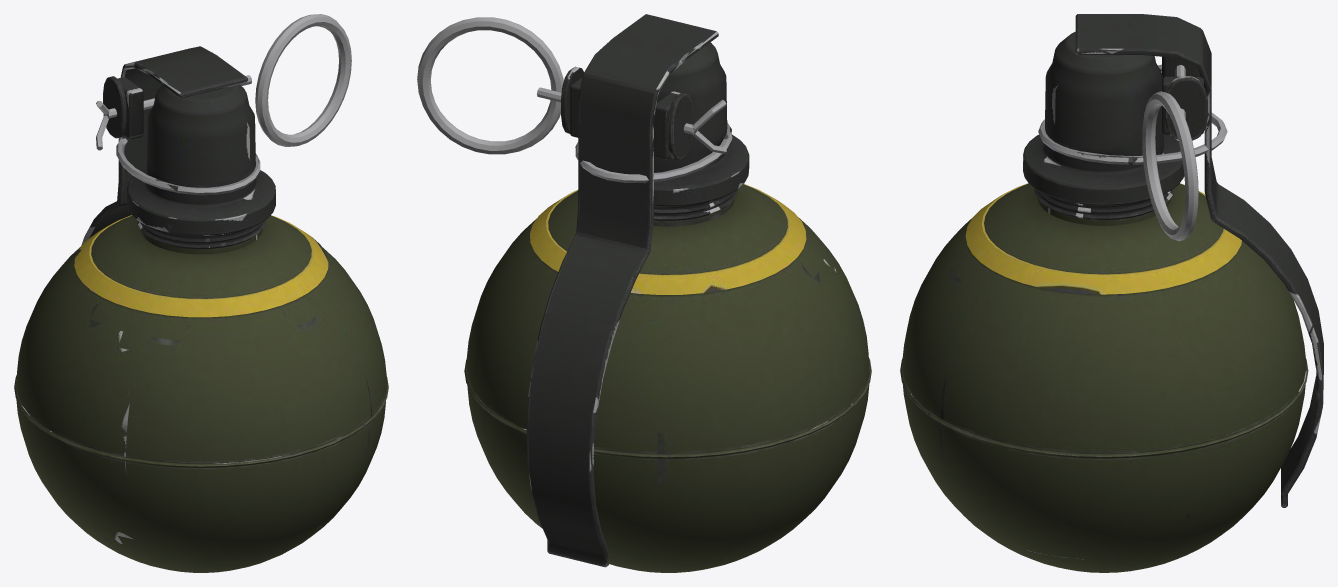
File: frag.glb
The picture shows the model from 3 angles, left to right: view 1: azimuth 30°, elevation 25°; view 2: azimuth 150°, elevation 25°; view 3: azimuth 270°, elevation 25°; orthographic projection. The views are drawn at different scales.
Parts seen in each view (by area): view 1: body, spoon, ring; view 2: body, spoon, ring; view 3: body, spoon, ring.
Boxes of the visible parts, box(x1,y1,x2,y2) form: body: box(14, 77, 388, 572); spoon: box(81, 46, 247, 245); ring: box(96, 14, 351, 150); body: box(464, 42, 871, 572); spoon: box(526, 14, 718, 567); ring: box(417, 17, 726, 154); body: box(900, 31, 1308, 572); spoon: box(1075, 14, 1323, 507); ring: box(1142, 64, 1198, 241).
Size of the model in its own units: 0.0696 by 0.0914 by 0.0666.
Materials: 4 (4 with a texture image).
